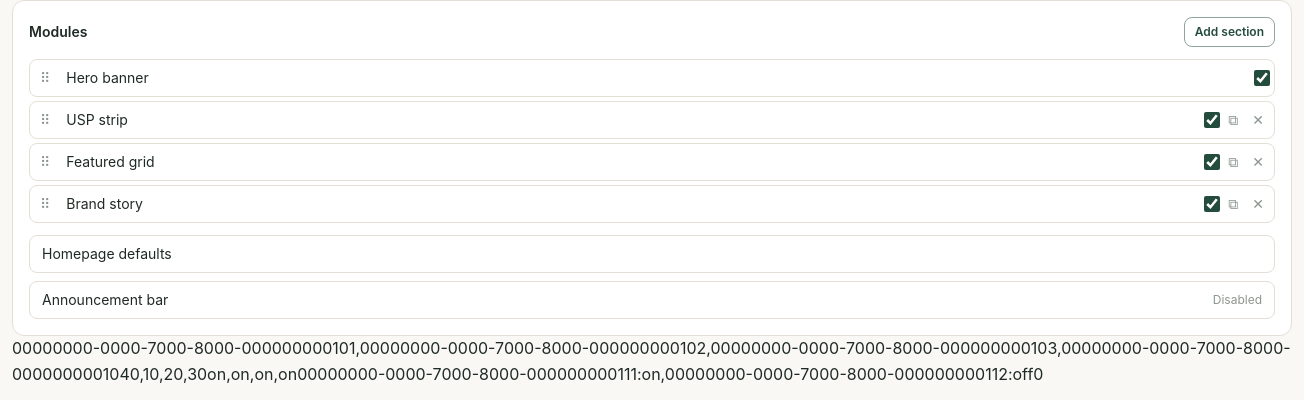
Test: ModuleTree › toggles a section's enabled state from its row
Step 1. Click the 2nd checkbox named "Hide section" → [1212, 120], box [1204,112,1220,128]
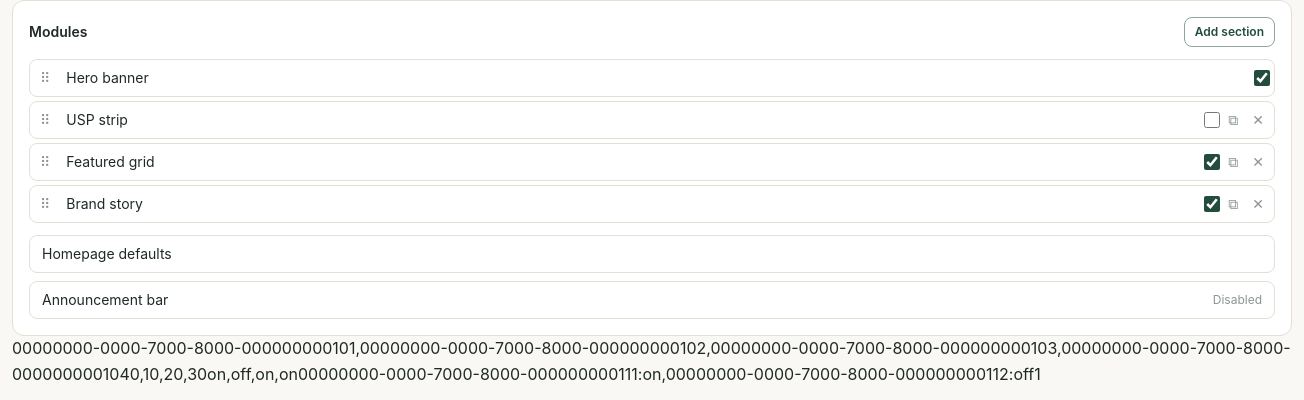
Expected: the text with test id "enabled" reads "on,off,on,on", [207,364,298,384]
Step 2. Click the checkbox named "Show section" → [1212, 120], box [1204,112,1220,128]
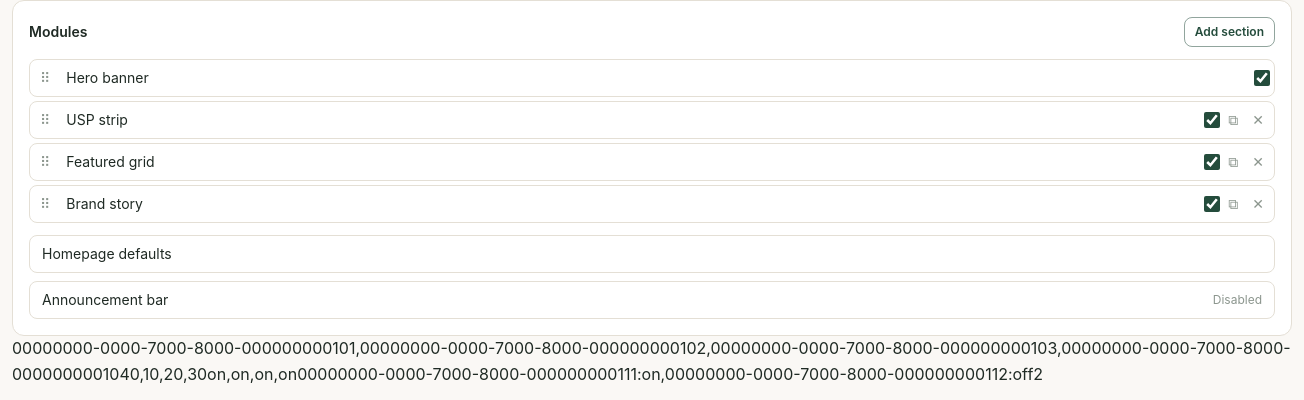
Expected: the text with test id "enabled" reads "on,on,on,on", [207,364,297,384]
